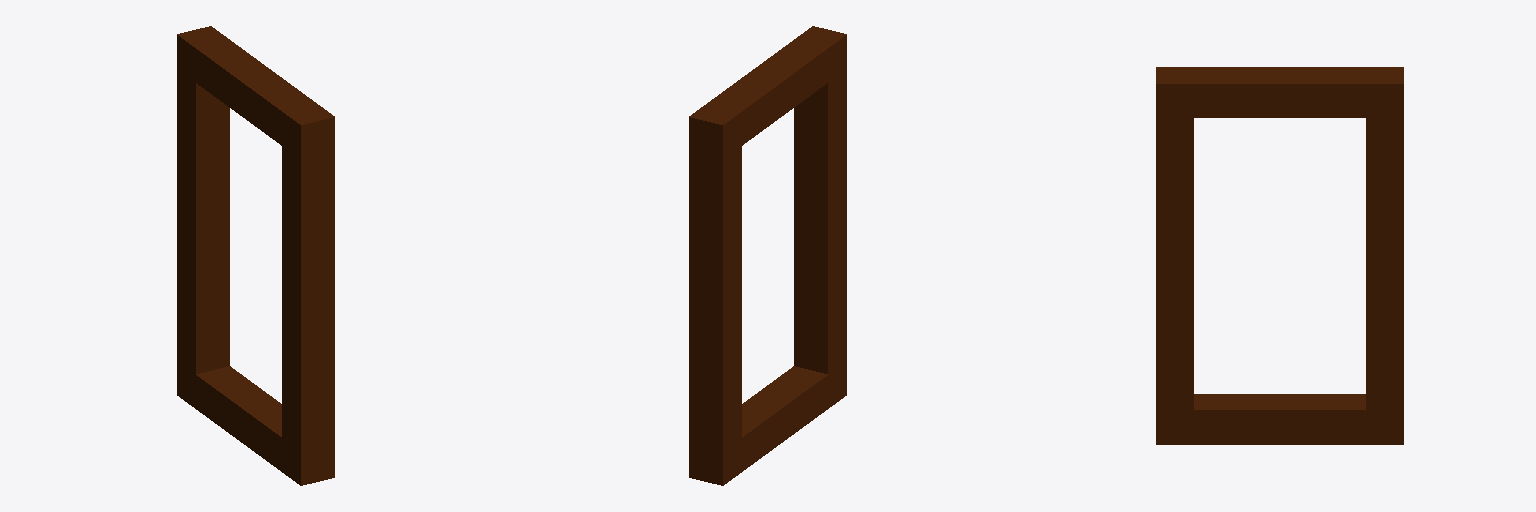
3 renders of one model, left to right at view 1: azimuth 30°, elevation 25°; view 2: azimuth 150°, elevation 25°; view 3: azimuth 270°, elevation 25°, orthographic.
Visible parts, largest first — view 1: G-__556320_G-__556320_Wood; view 2: G-__556320_G-__556320_Wood; view 3: G-__556320_G-__556320_Wood.
Part boxes in pixels (x1,y1,x2,y2): G-__556320_G-__556320_Wood: (177,26,334,485); G-__556320_G-__556320_Wood: (689,26,846,485); G-__556320_G-__556320_Wood: (1156,67,1403,444).
Size of the model in its own units: 0.05 by 0.5 by 0.3125.